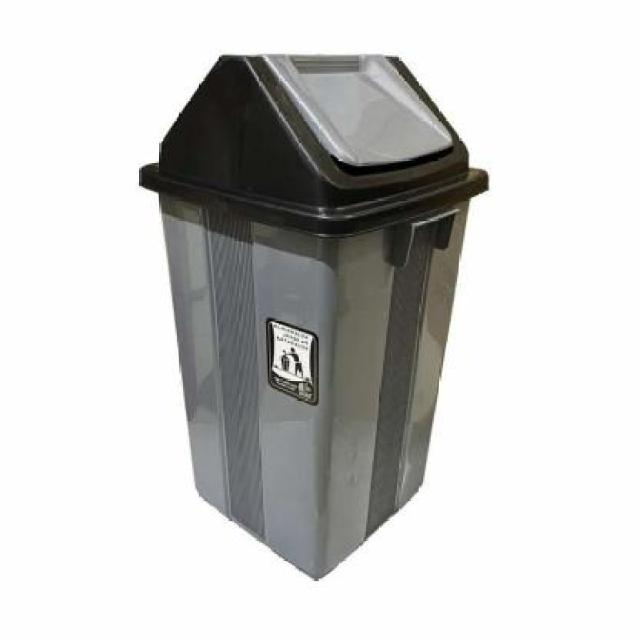garbage container: (119, 45, 496, 598)
